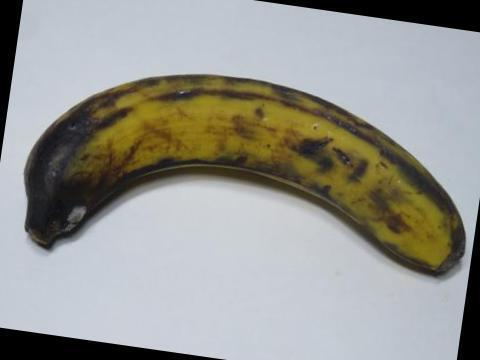overripe: (13, 66, 469, 293)
rotten: (5, 92, 135, 251)
